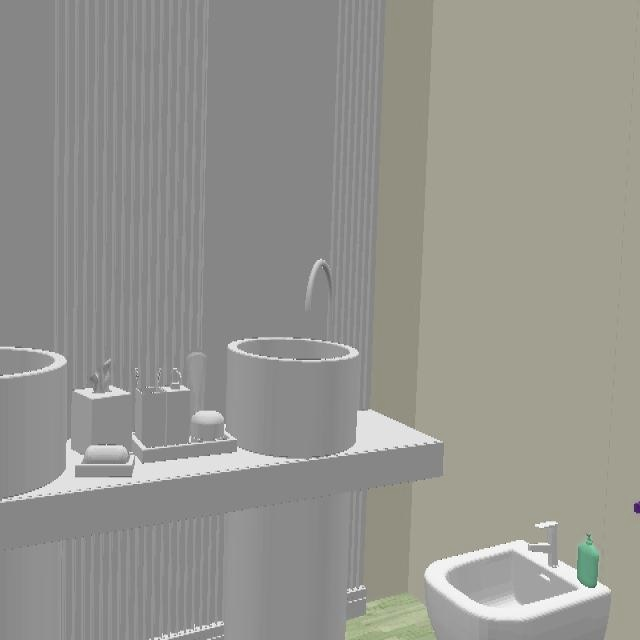washbasin: (424, 541, 613, 639), (225, 337, 362, 460), (0, 347, 69, 501)
